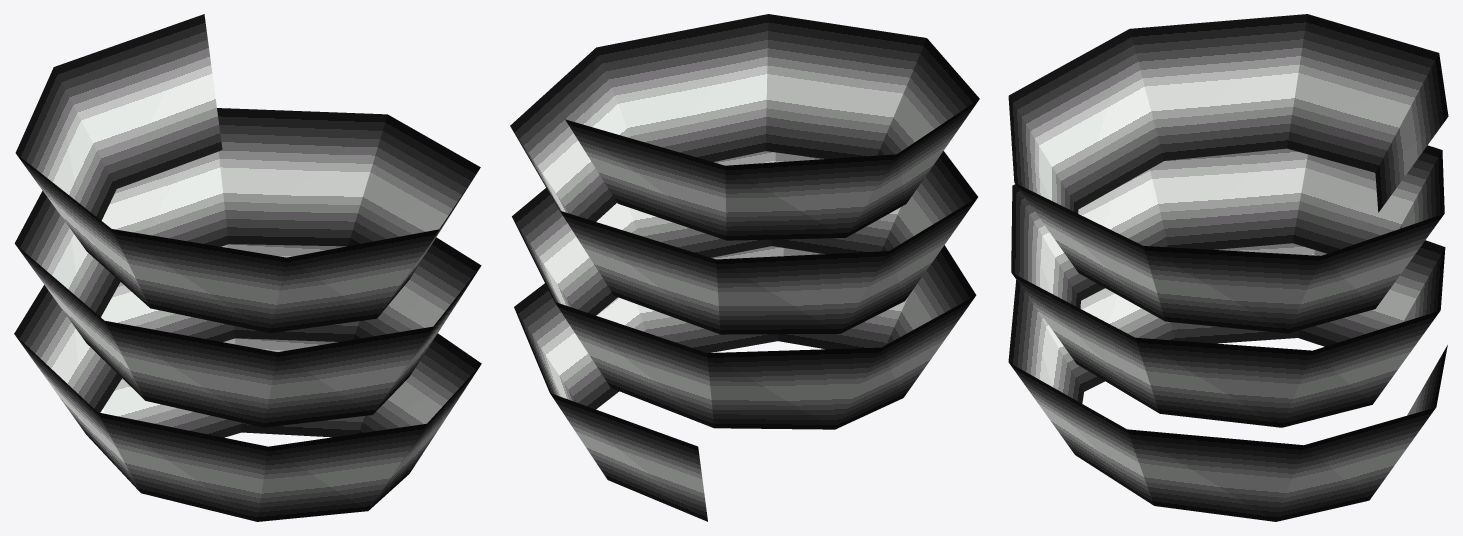
Rendered from Tornado.FBX.
3 renders of one model, left to right at view 1: azimuth 30°, elevation 25°; view 2: azimuth 150°, elevation 25°; view 3: azimuth 270°, elevation 25°, orthographic.
Parts seen in each view (by area): view 1: hawkArms_SM; view 2: hawkArms_SM; view 3: hawkArms_SM.
Boxes of the visible parts, x1,y1,x2,y2 form: hawkArms_SM: [14, 14, 481, 521]; hawkArms_SM: [510, 14, 979, 521]; hawkArms_SM: [1008, 14, 1448, 521].
Bounding box in the file's own units: 4.42 × 4.41 × 4.43.
